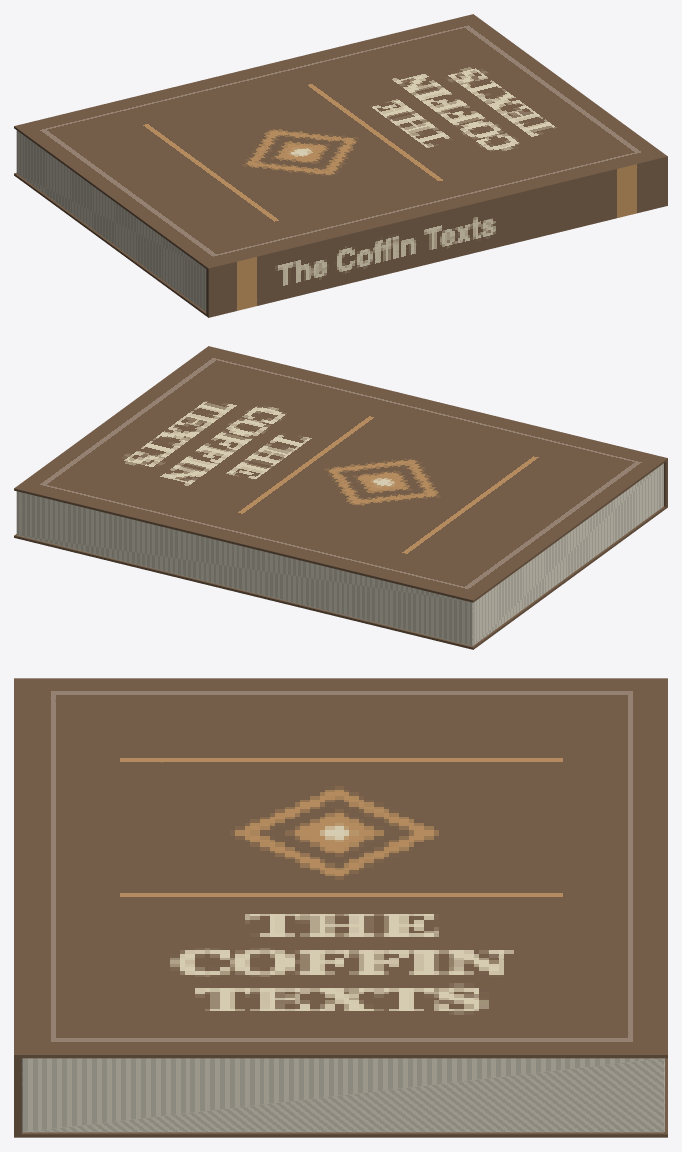
File: holybook_egypt1.glb
3 renders of one model, top to bottom at view 1: azimuth 30°, elevation 25°; view 2: azimuth 150°, elevation 25°; view 3: azimuth 270°, elevation 25°, orthographic. The views are drawn at different scales.
Parts seen in each view (by area): view 1: block_front, block_spine, block_pages, block_back; view 2: block_front, block_pages, block_back, block_spine; view 3: block_front, block_pages, block_back, block_spine.
Boxes of the visible parts, x1,y1,x2,y2 form: block_front: (14,14,665,269); block_spine: (206,155,667,317); block_pages: (16,130,206,311); block_back: (14,173,207,316); block_front: (14,346,667,602); block_pages: (16,463,663,646); block_back: (14,506,667,649); block_spine: (207,346,667,507); block_front: (16,678,667,1058); block_pages: (21,1058,664,1132); block_back: (16,1058,667,1137); block_spine: (14,678,21,1137).
Size of the model in its own units: 0.252 by 0.0259 by 0.1849.
Materials: 1 (1 with a texture image).
